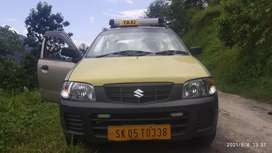SK05T0338: (107, 124, 172, 140)
